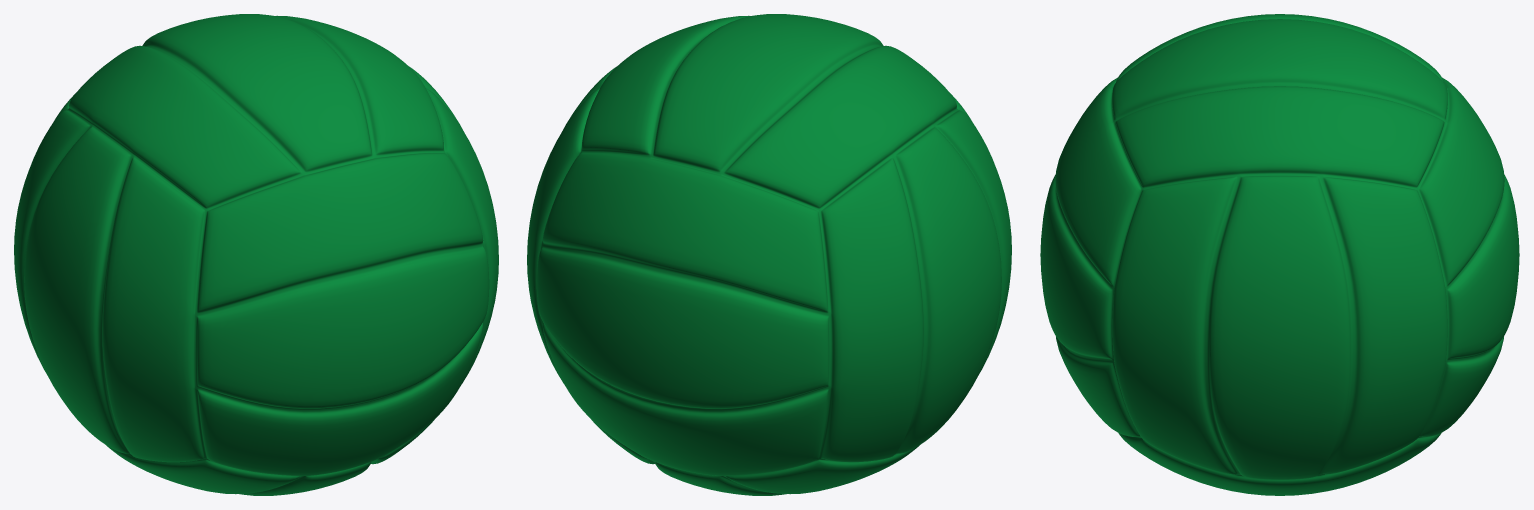
Rendered from VoleyBall.obj.
3 views of the same model, side by side, from view 1: azimuth 30°, elevation 25°; view 2: azimuth 150°, elevation 25°; view 3: azimuth 270°, elevation 25° (orthographic).
Parts seen in each view (by area): view 1: _ball01; view 2: _ball01; view 3: _ball01.
Boxes of the visible parts, x1,y1,x2,y2 form: _ball01: [14, 14, 498, 495]; _ball01: [527, 14, 1011, 495]; _ball01: [1040, 14, 1519, 495].
Size of the model in its own units: 3.03 by 3.02 by 3.03.
